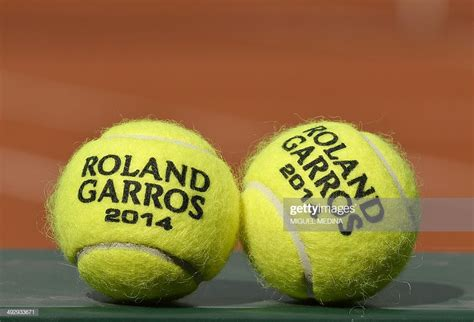tennis_ball: (45, 115, 242, 304), (241, 118, 421, 305)
